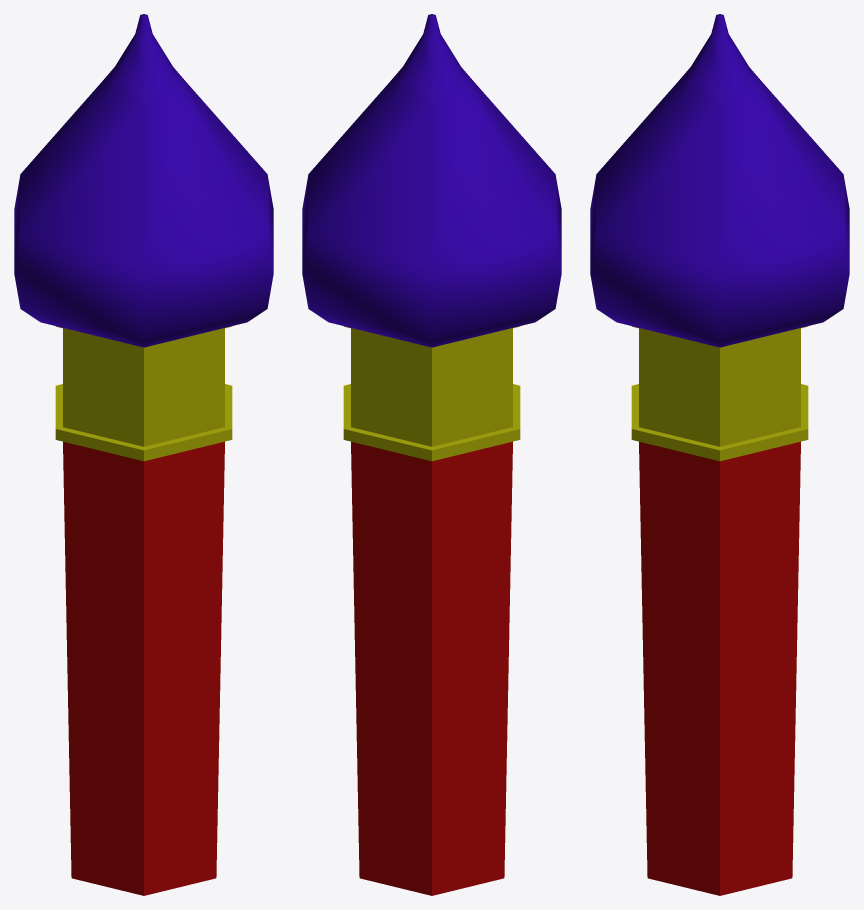
File: paintbrush.fbx
The picture shows the model from 3 angles, left to right: view 1: azimuth 30°, elevation 25°; view 2: azimuth 150°, elevation 25°; view 3: azimuth 270°, elevation 25°; orthographic projection.
Visible parts, largest first — view 1: polySurface7, polySurface2, polySurface8; view 2: polySurface7, polySurface2, polySurface8; view 3: polySurface7, polySurface2, polySurface8.
Part boxes in pixels (bbox=[...]): polySurface7: bbox=[63, 441, 224, 895]; polySurface2: bbox=[14, 14, 273, 347]; polySurface8: bbox=[55, 326, 232, 461]; polySurface7: bbox=[351, 441, 512, 895]; polySurface2: bbox=[302, 14, 561, 347]; polySurface8: bbox=[343, 326, 520, 461]; polySurface7: bbox=[639, 441, 800, 895]; polySurface2: bbox=[590, 14, 849, 347]; polySurface8: bbox=[631, 326, 808, 461].
Size of the model in its own units: 4.85 by 15.09 by 4.2.
